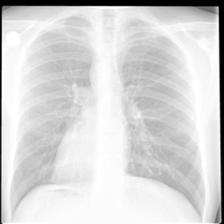tuberculosis: (7, 10, 208, 224)
